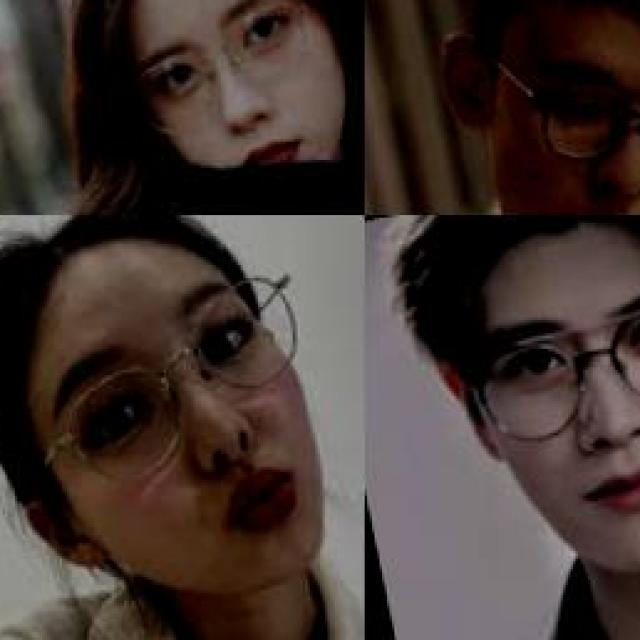Glasses: (0, 270, 320, 512), (464, 0, 640, 212), (106, 0, 334, 142), (446, 296, 640, 458)
